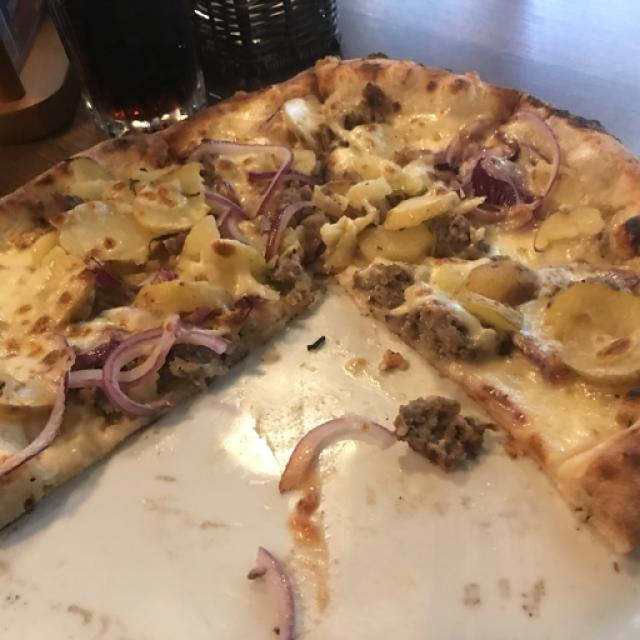pizza: (1, 56, 640, 551)
